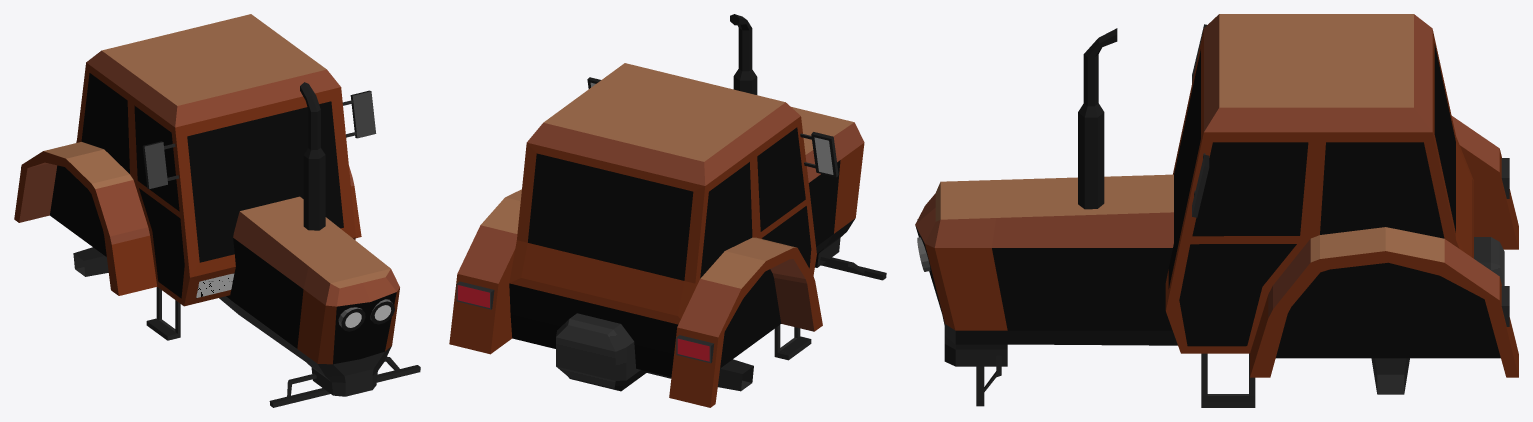
File: Tractor.006.fbx
3 renders of one model, left to right at view 1: azimuth 30°, elevation 25°; view 2: azimuth 150°, elevation 25°; view 3: azimuth 270°, elevation 25°, orthographic. The views are drawn at different scales.
Visible parts, largest first — view 1: Tractor.006; view 2: Tractor.006; view 3: Tractor.006.
Part boxes in pixels (bbox=[...]): Tractor.006: bbox=[14, 14, 420, 407]; Tractor.006: bbox=[449, 14, 886, 407]; Tractor.006: bbox=[915, 14, 1518, 407].
Size of the model in its own units: 2.11 by 2.2 by 3.54.
